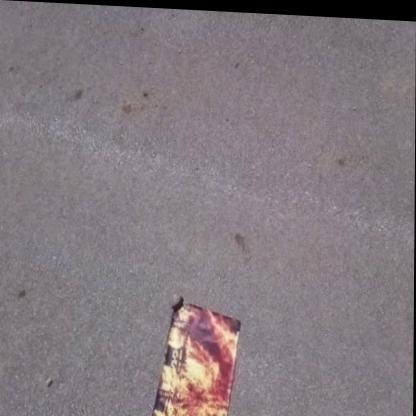fire-poster: (152, 293, 243, 416)
